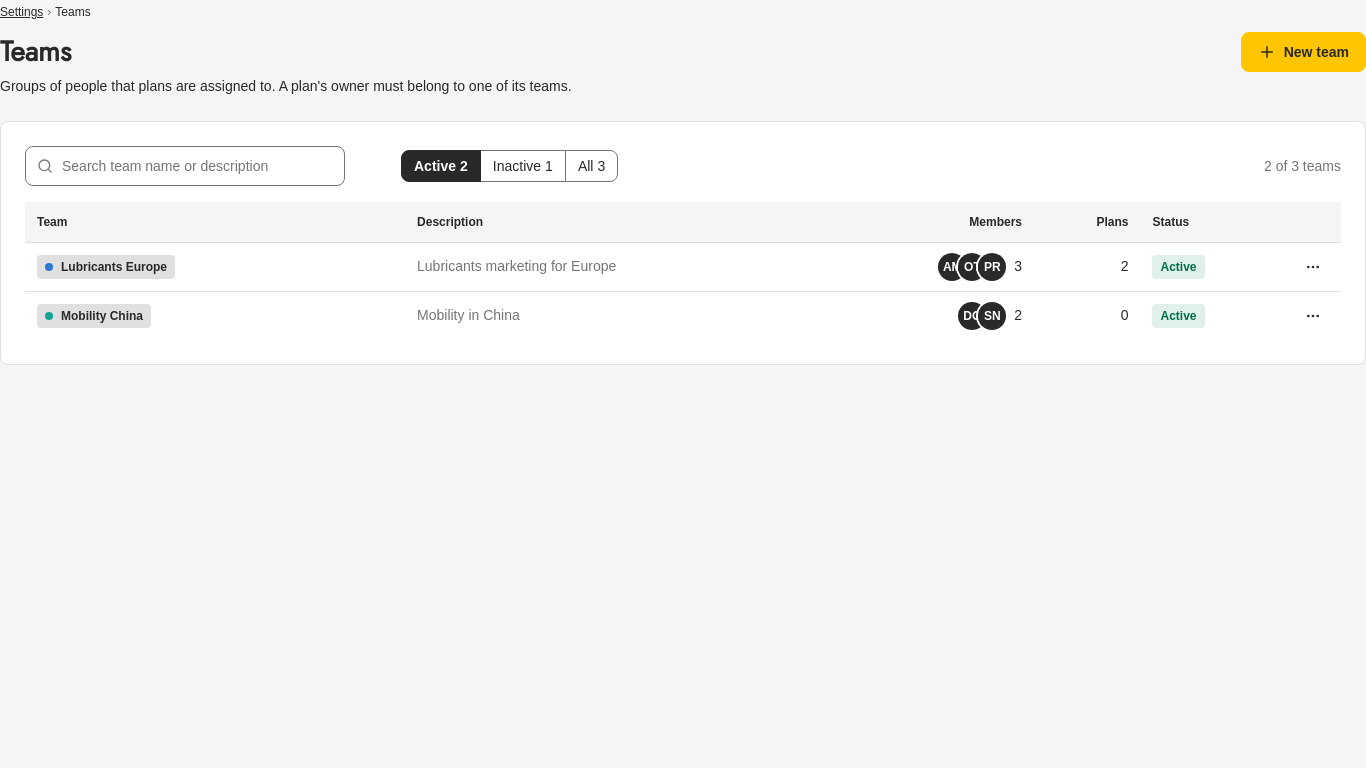
Test case: TeamsPage (feature 003, US2): Delete, Set team inactive and Reactivate › refuses to delete a used team and offers Set team inactive (US2-6)
This screenshot has width=1366, height=768.
Click the button named "Actions for Lubricants Europe". click: [1313, 266]
box: left=1297, top=250, right=1329, bottom=282
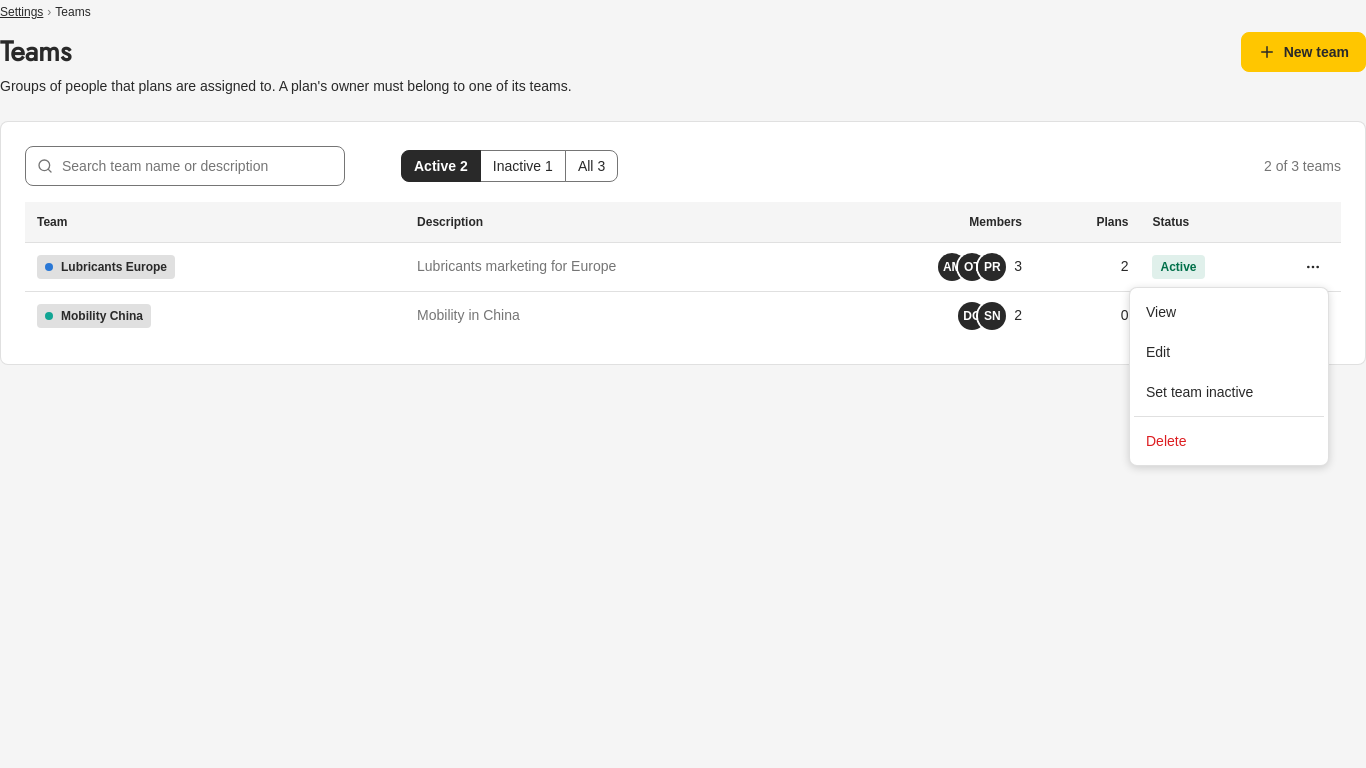
Click the menu item "Delete". click: [1166, 441]
box: left=1146, top=433, right=1186, bottom=449
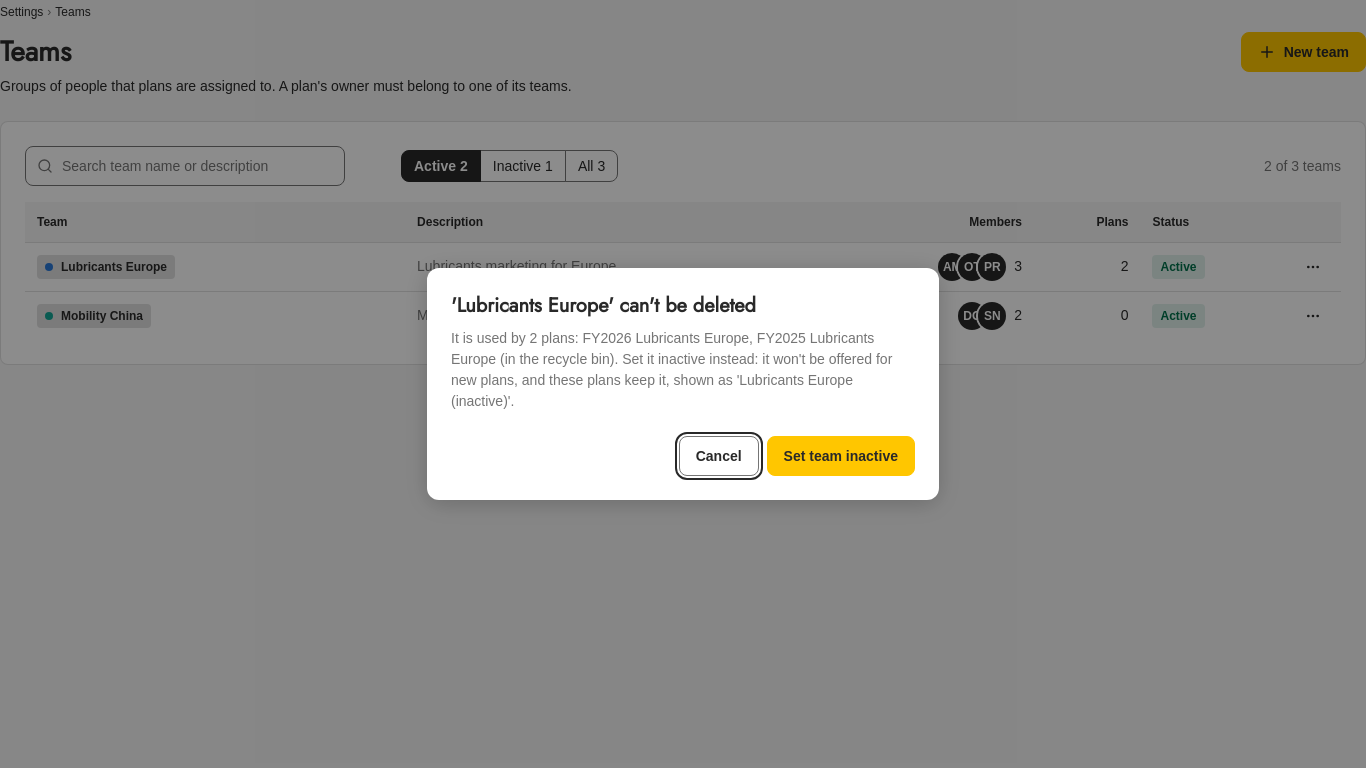
Expected: the dialog "'Lubricants Europe' can't be deleted" shows "It is used by 2 plans: FY2026 Lubricants Europe, FY2025 Lubricants Europe (in the recycle bin). Set it inactive instead: it won't be offered for new plans, and", left=451, top=330, right=892, bottom=409
Click the button "Set team inactive". click: [841, 456]
box: left=767, top=436, right=915, bottom=476
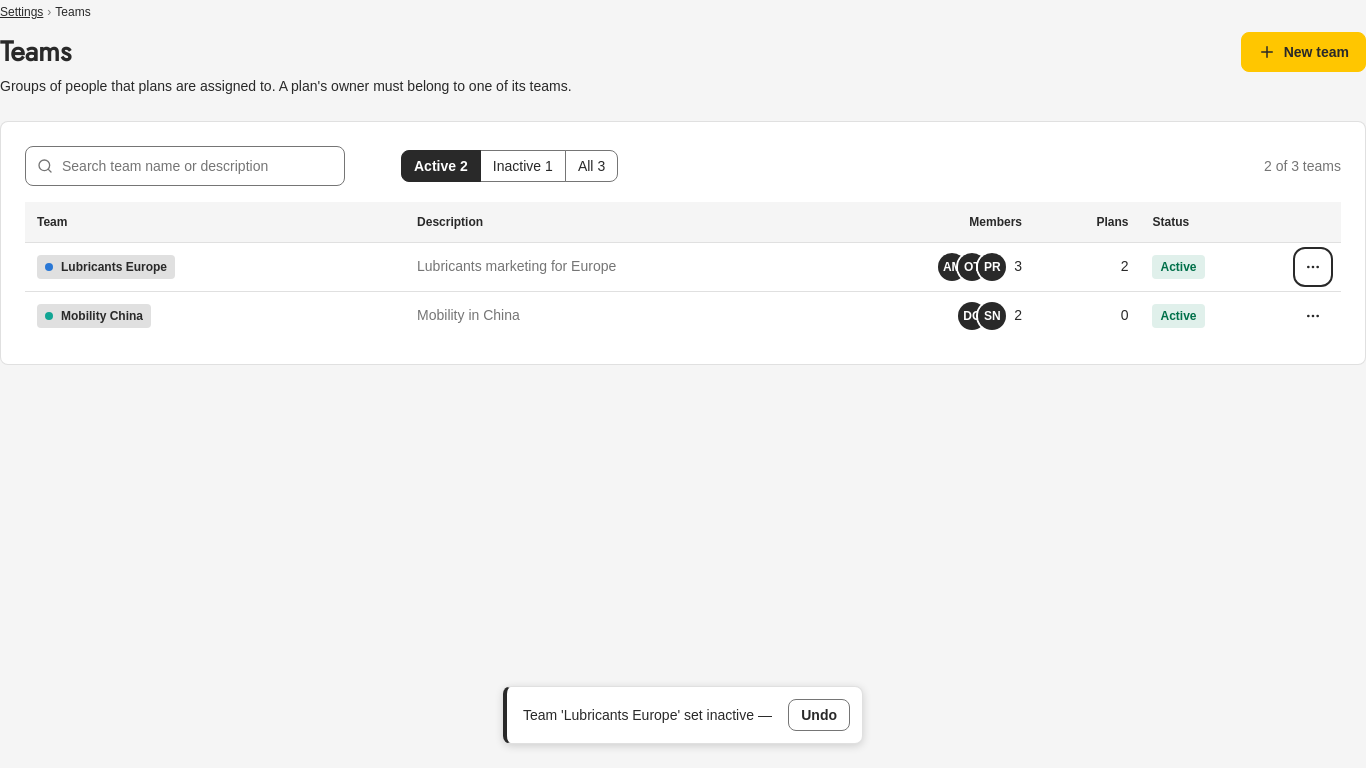
Expected: the text "Team 'Lubricants Europe' set inactive" is shown, left=523, top=706, right=758, bottom=722
